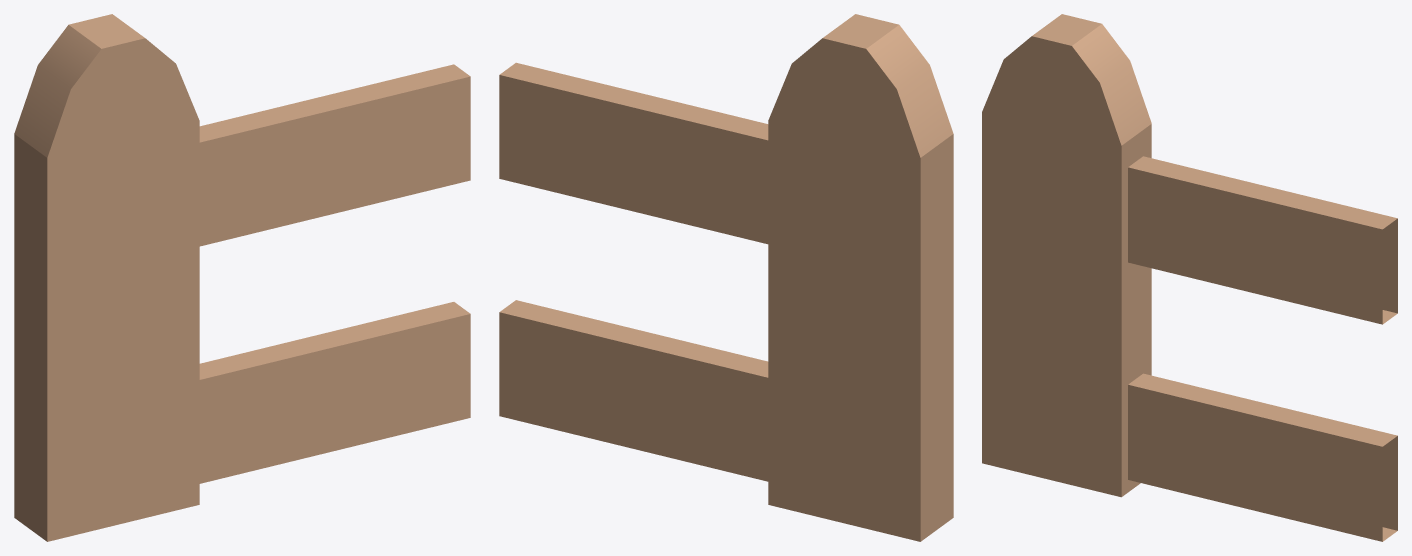
File: SM_Fence.fbx
3 renders of one model, left to right at view 1: azimuth 30°, elevation 25°; view 2: azimuth 150°, elevation 25°; view 3: azimuth 330°, elevation 25°, orthographic. The views are drawn at different scales.
Parts seen in each view (by area): view 1: SM_Fence; view 2: SM_Fence; view 3: SM_Fence.
Boxes of the visible parts, <box> form: SM_Fence: <box>14,14,470,541</box>; SM_Fence: <box>499,14,953,541</box>; SM_Fence: <box>982,14,1397,541</box>.
Bounding box in the file's own units: 276 × 294 × 36.78.
